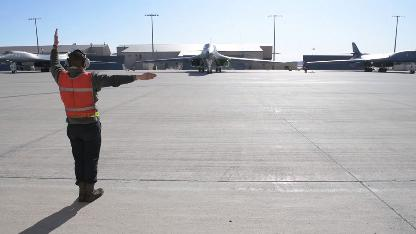AV8B: (134, 37, 286, 73), (0, 43, 118, 74), (306, 42, 414, 74)
